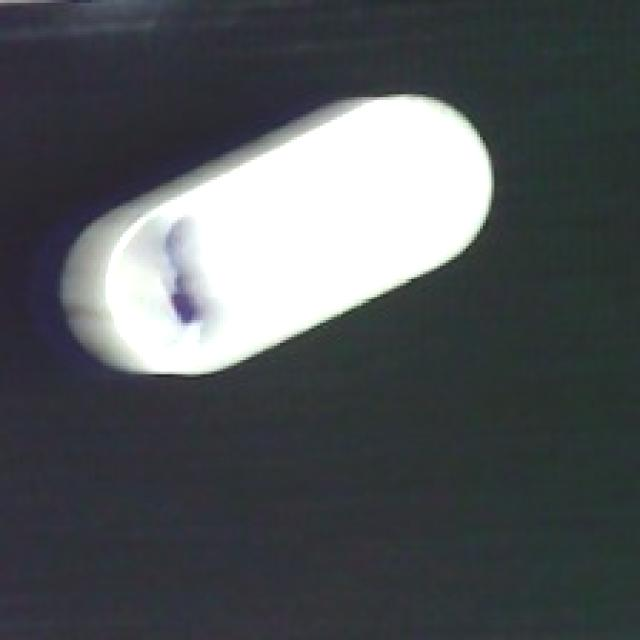defected: (45, 92, 500, 380)
